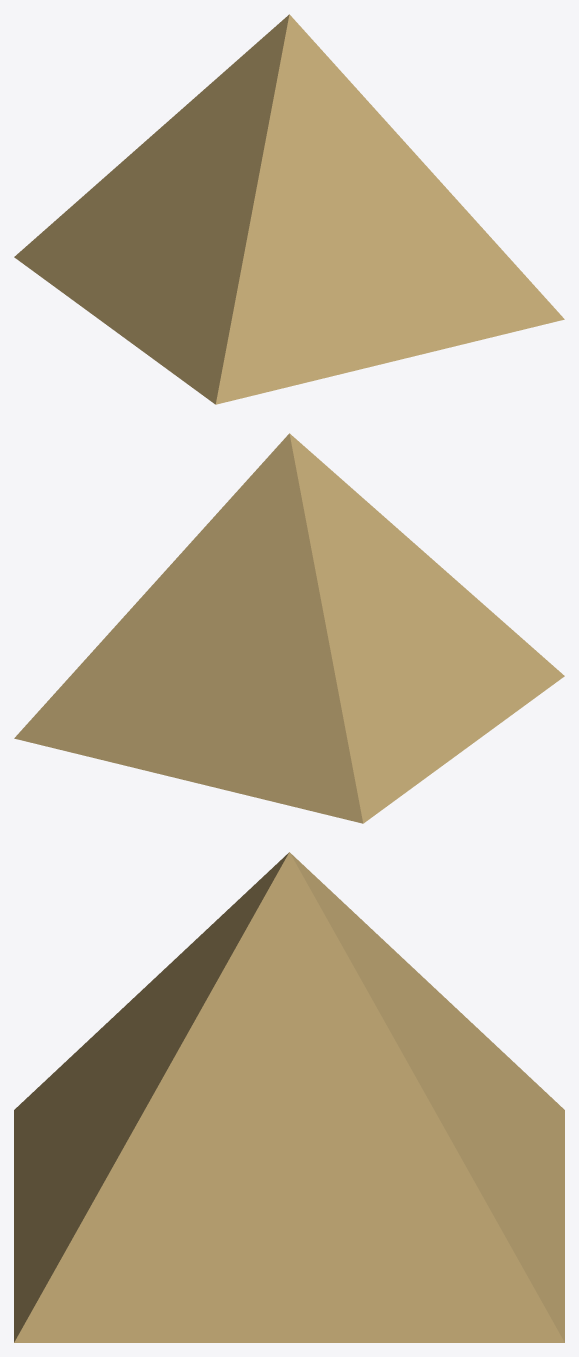
3 views of the same model, one above another, from view 1: azimuth 30°, elevation 25°; view 2: azimuth 150°, elevation 25°; view 3: azimuth 270°, elevation 25° (orthographic). The views are drawn at different scales.
Parts seen in each view (by area): view 1: Pyramid; view 2: Pyramid; view 3: Pyramid.
Part boxes in pixels (x1=…): Pyramid: x1=14, y1=14, x2=564, y2=404; Pyramid: x1=14, y1=433, x2=564, y2=823; Pyramid: x1=14, y1=852, x2=564, y2=1342.
Bounding box in the file's own units: 2 × 1.5 × 2.
